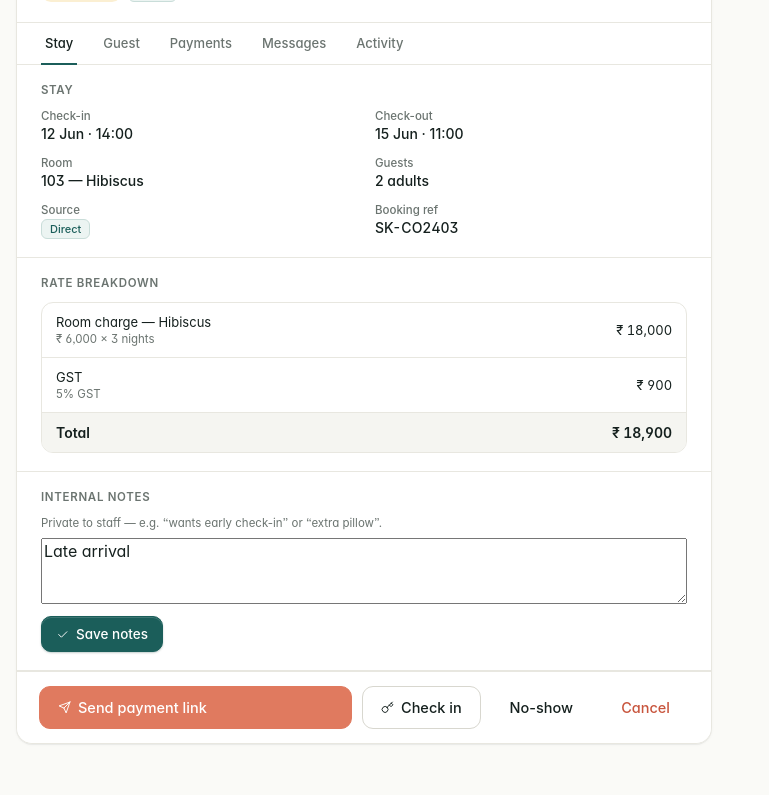
Test: BookingDetailView › sends a payment link when online payments are enabled
(page scrolled)
What coordinates should you click on to do the following:
click the button "Send payment link"
I would click on:
 (196, 708)
Its box is x1=39 y1=686 x2=352 y2=729.
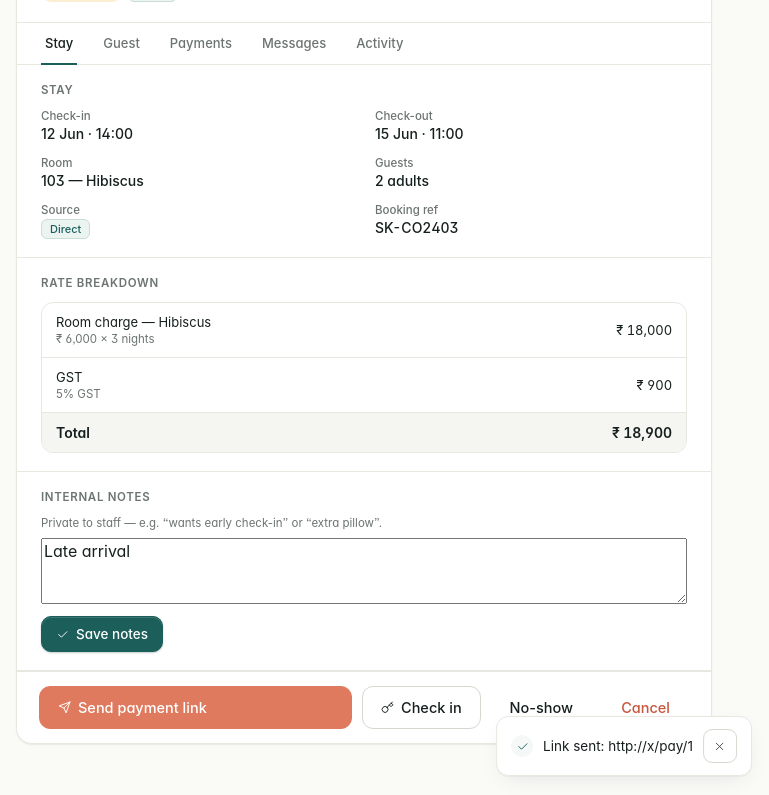
Now the text "Link sent: http://x/pay/1" is shown, box x1=543 y1=738 x2=693 y2=754
